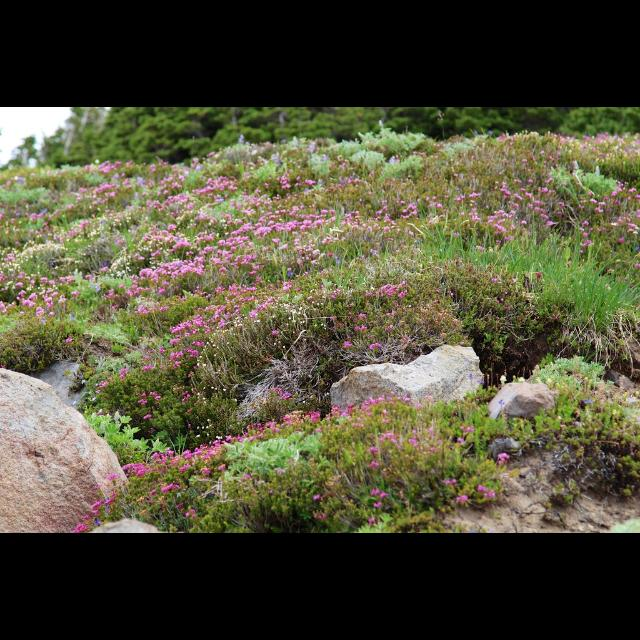Flower: (1, 136, 640, 534)
